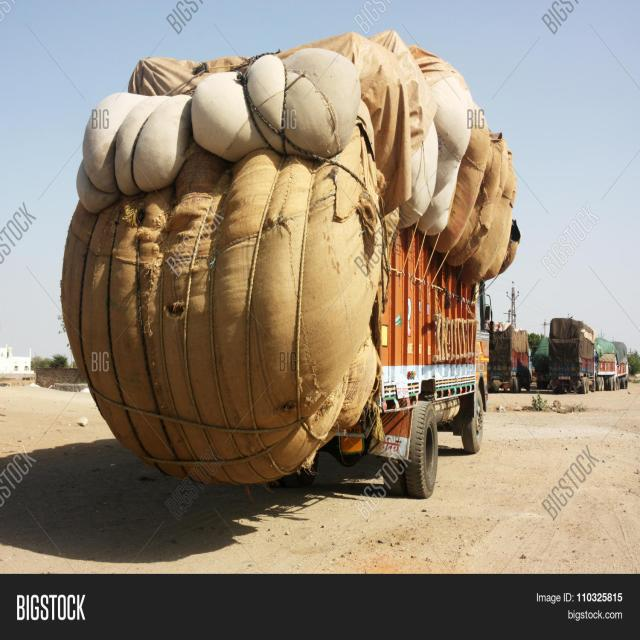notoverloaded: (59, 28, 520, 497)
